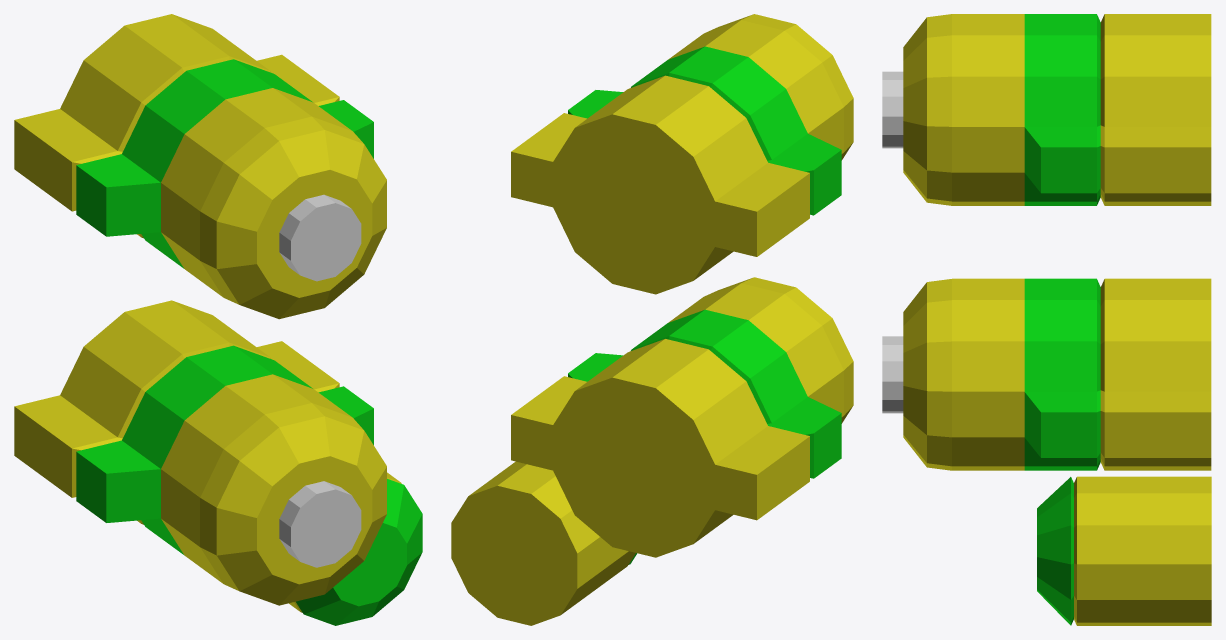
The model's file is Depot.fbx.
The picture shows the model from 3 angles, left to right: view 1: azimuth 30°, elevation 25°; view 2: azimuth 150°, elevation 25°; view 3: azimuth 270°, elevation 25°; orthographic projection. The views are drawn at different scales.
Parts seen in each view (by area): view 1: Depot1; view 2: Depot1; view 3: Depot1.
Boxes of the visible parts, x1,y1,x2,y2 form: Depot1: [14, 14, 422, 625]; Depot1: [451, 14, 853, 625]; Depot1: [882, 14, 1211, 625].
Bounding box in the file's own units: 910 × 1513 × 845.
